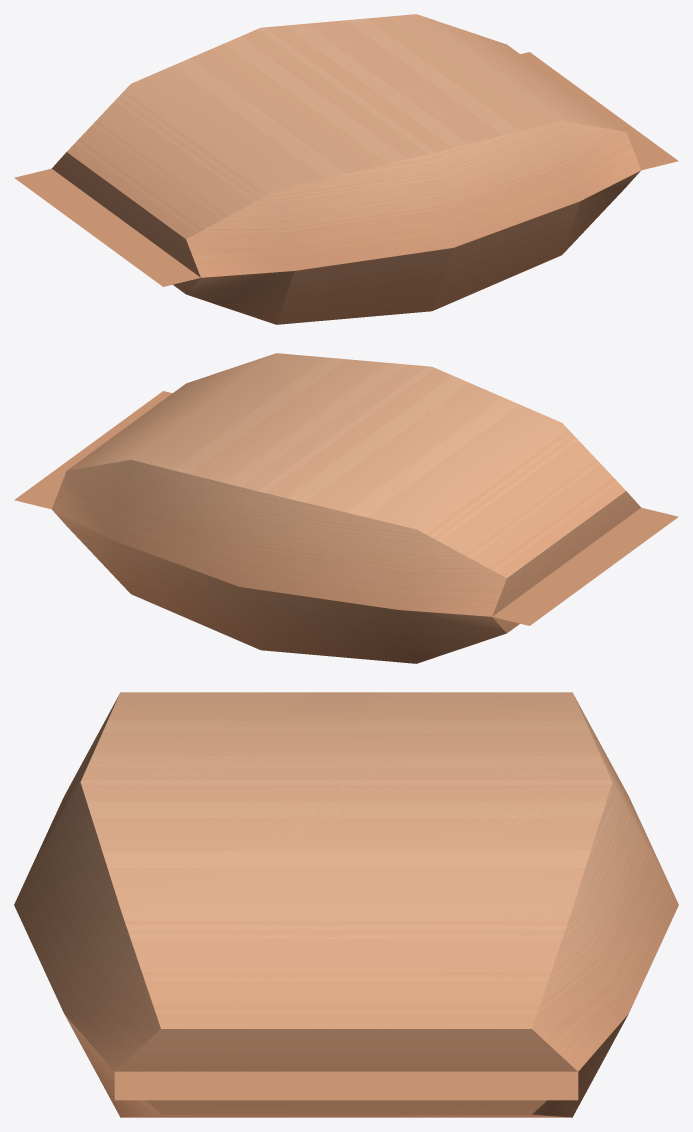
Rendered from bag-flat.glb.
3 renders of one model, top to bottom at view 1: azimuth 30°, elevation 25°; view 2: azimuth 150°, elevation 25°; view 3: azimuth 270°, elevation 25°, orthographic. The views are drawn at different scales.
Parts seen in each view (by area): view 1: bag-flat; view 2: bag-flat; view 3: bag-flat.
Boxes of the visible parts, <box> form: bag-flat: <box>14,14,678,324</box>; bag-flat: <box>14,353,678,663</box>; bag-flat: <box>14,692,678,1117</box>.
Size of the model in its own units: 0.65 by 0.1905 by 0.4675.
Materials: 1 (1 with a texture image).
